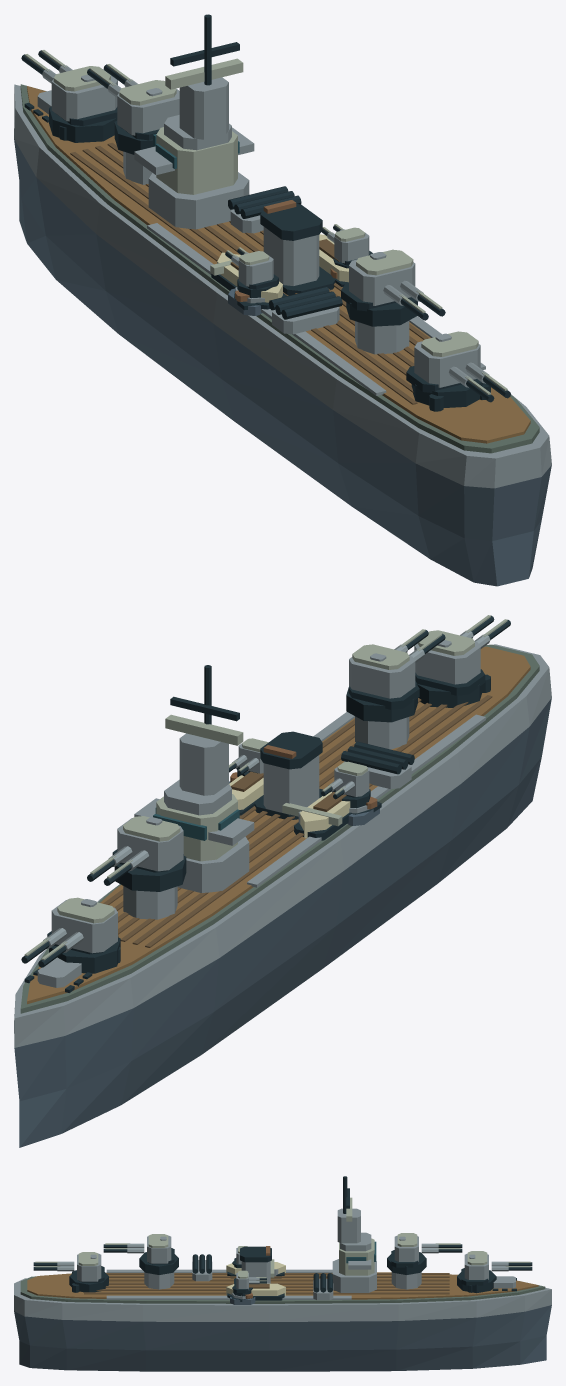
The model's file is historic-algerie.glb.
3 views of the same model, one above another, from view 1: azimuth 30°, elevation 25°; view 2: azimuth 150°, elevation 25°; view 3: azimuth 270°, elevation 25° (orthographic). The views are drawn at different scales.
Parts seen in each view (by area): view 1: historic-algerie-historic-algerie-geometry, historic-algerie-part_bridge.044-geometry, historic-algerie-turret_main_2.029-geometry, historic-algerie-turret_main_3.016-geometry, historic-algerie-turret_main_0.034-geometry, historic-algerie-historic_funnel_0.045-geometry, historic-algerie-turret_main_1.033-geometry, historic-algerie-torpedo_bank_0.008-geometry, historic-algerie-torpedo_bank_1.007-geometry, historic-algerie-turret_aa_aa-port.046-geometry, historic-algerie-turret_aa_aa-starboard.044-geometry; view 2: historic-algerie-historic-algerie-geometry, historic-algerie-part_bridge.044-geometry, historic-algerie-turret_main_2.029-geometry, historic-algerie-turret_main_1.033-geometry, historic-algerie-turret_main_3.016-geometry, historic-algerie-turret_main_0.034-geometry, historic-algerie-historic_funnel_0.045-geometry, historic-algerie-torpedo_bank_0.008-geometry, historic-algerie-turret_aa_aa-port.046-geometry, historic-algerie-turret_aa_aa-starboard.044-geometry; view 3: historic-algerie-historic-algerie-geometry, historic-algerie-part_bridge.044-geometry, historic-algerie-turret_main_1.033-geometry, historic-algerie-turret_main_2.029-geometry, historic-algerie-turret_main_0.034-geometry, historic-algerie-turret_main_3.016-geometry, historic-algerie-historic_funnel_0.045-geometry, historic-algerie-torpedo_bank_1.007-geometry, historic-algerie-torpedo_bank_0.008-geometry, historic-algerie-turret_aa_aa-starboard.044-geometry.
Boxes of the visible parts, x1,y1,x2,y2 form: historic-algerie-historic-algerie-geometry: (14,84,551,586); historic-algerie-part_bridge.044-geometry: (134,14,254,229); historic-algerie-turret_main_2.029-geometry: (341,249,445,326); historic-algerie-turret_main_3.016-geometry: (406,331,510,407); historic-algerie-turret_main_0.034-geometry: (21,50,117,142); historic-algerie-historic_funnel_0.045-geometry: (260,200,335,295); historic-algerie-turret_main_1.033-geometry: (87,64,179,154); historic-algerie-torpedo_bank_0.008-geometry: (268,287,342,334); historic-algerie-torpedo_bank_1.007-geometry: (228,186,301,233); historic-algerie-turret_aa_aa-port.046-geometry: (225,247,278,298); historic-algerie-turret_aa_aa-starboard.044-geometry: (321,224,372,268); historic-algerie-historic-algerie-geometry: (14,644,551,1147); historic-algerie-part_bridge.044-geometry: (134,665,254,892); historic-algerie-turret_main_2.029-geometry: (346,629,445,722); historic-algerie-turret_main_1.033-geometry: (87,816,186,891); historic-algerie-turret_main_3.016-geometry: (414,615,510,707); historic-algerie-turret_main_0.034-geometry: (21,897,120,973); historic-algerie-historic_funnel_0.045-geometry: (254,731,322,819); historic-algerie-torpedo_bank_0.008-geometry: (341,741,414,789); historic-algerie-turret_aa_aa-port.046-geometry: (321,761,370,808); historic-algerie-turret_aa_aa-starboard.044-geometry: (229,738,268,776); historic-algerie-historic-algerie-geometry: (14,1262,551,1371); historic-algerie-part_bridge.044-geometry: (332,1176,376,1292); historic-algerie-turret_main_1.033-geometry: (387,1233,462,1274); historic-algerie-turret_main_2.029-geometry: (103,1234,178,1274); historic-algerie-turret_main_0.034-geometry: (457,1251,532,1293); historic-algerie-turret_main_3.016-geometry: (33,1252,108,1292); historic-algerie-historic_funnel_0.045-geometry: (234,1246,271,1283); historic-algerie-torpedo_bank_1.007-geometry: (313,1273,333,1300); historic-algerie-torpedo_bank_0.008-geometry: (192,1254,212,1281); historic-algerie-turret_aa_aa-starboard.044-geometry: (232,1270,266,1296).
Bounding box in the file's own units: 0.6861 × 1.62 × 4.32.
